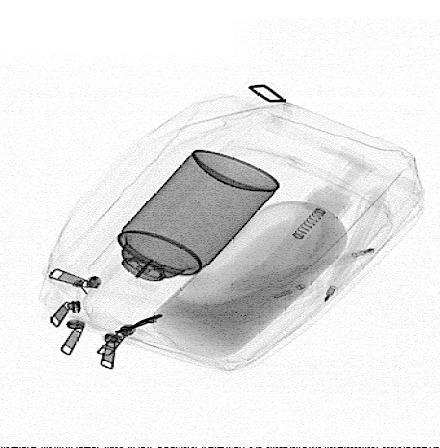Sprayer: (87, 148, 282, 313)
